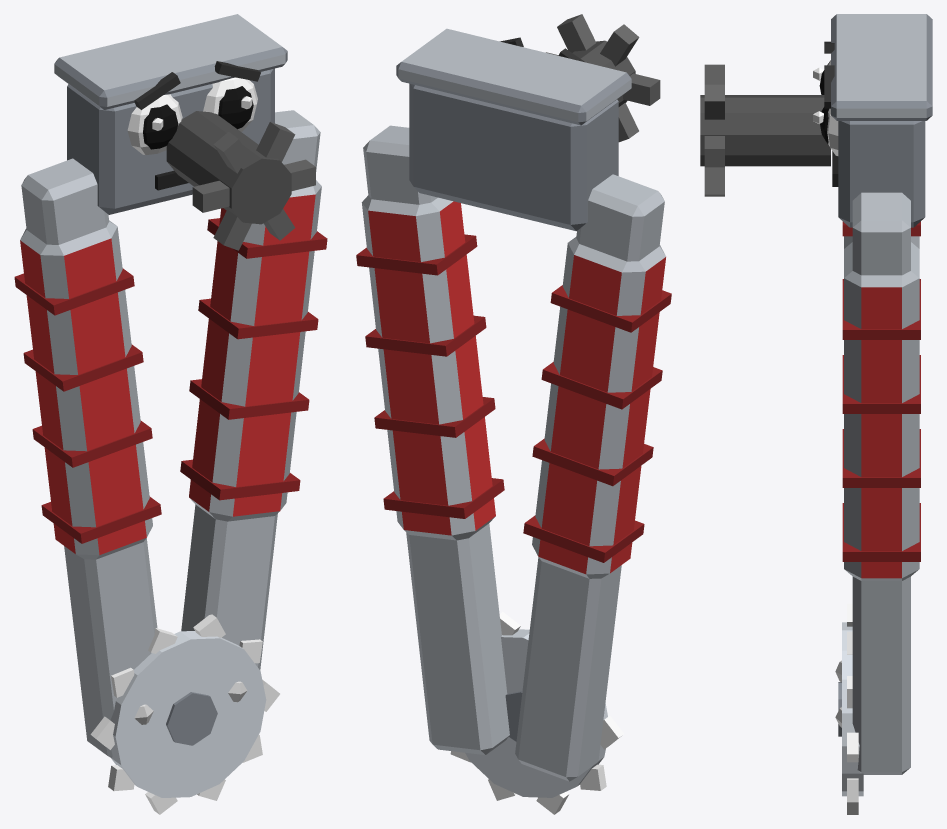
File: dosenoeffner.glb
The picture shows the model from 3 angles, left to right: view 1: azimuth 30°, elevation 25°; view 2: azimuth 150°, elevation 25°; view 3: azimuth 270°, elevation 25°; orthographic projection.
Parts seen in each view (by area): view 1: arm-0-m, arm-1-m, body, blade-m, knob-m, eye-0-m, eye-1-m; view 2: arm-1-m, arm-0-m, body, blade-m, knob-m; view 3: arm-1-m, body, knob-m, blade-m, eye-1-m, arm-0-m.
Boxes of the visible parts, bbox=[...] form: arm-0-m: bbox=[14, 158, 161, 757]; arm-1-m: bbox=[180, 110, 327, 702]; body: bbox=[54, 14, 287, 214]; blade-m: bbox=[90, 614, 279, 814]; knob-m: bbox=[166, 111, 315, 250]; eye-0-m: bbox=[127, 94, 182, 155]; eye-1-m: bbox=[203, 77, 257, 131]; arm-1-m: bbox=[356, 125, 509, 754]; arm-0-m: bbox=[515, 174, 671, 781]; body: bbox=[396, 28, 631, 231]; blade-m: bbox=[450, 612, 623, 814]; knob-m: bbox=[546, 14, 660, 142]; arm-1-m: bbox=[835, 192, 920, 774]; body: bbox=[824, 14, 932, 227]; knob-m: bbox=[700, 64, 830, 196]; blade-m: bbox=[838, 603, 863, 814]; eye-1-m: bbox=[813, 107, 838, 155]; arm-0-m: bbox=[835, 221, 920, 681].
Size of the model in its own units: 2.24 by 5.68 by 1.6.
